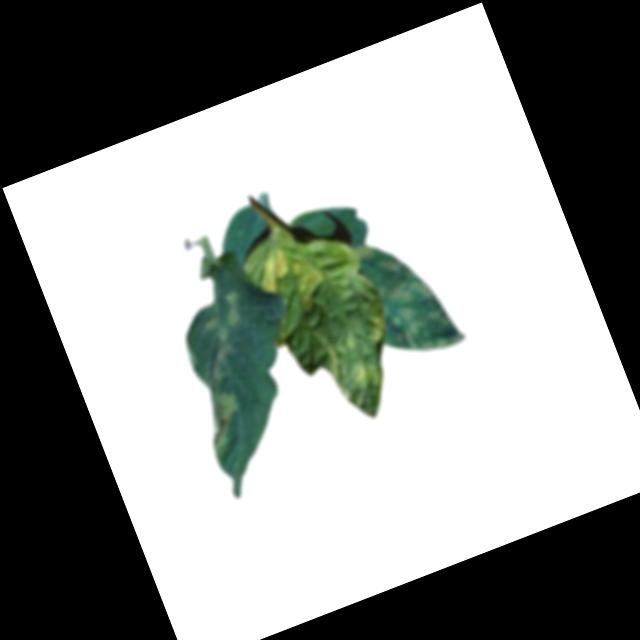Leaf_Mold: (352, 223, 465, 368), (192, 384, 252, 455), (240, 243, 296, 303), (288, 253, 335, 315), (213, 286, 250, 330), (351, 359, 383, 393)
